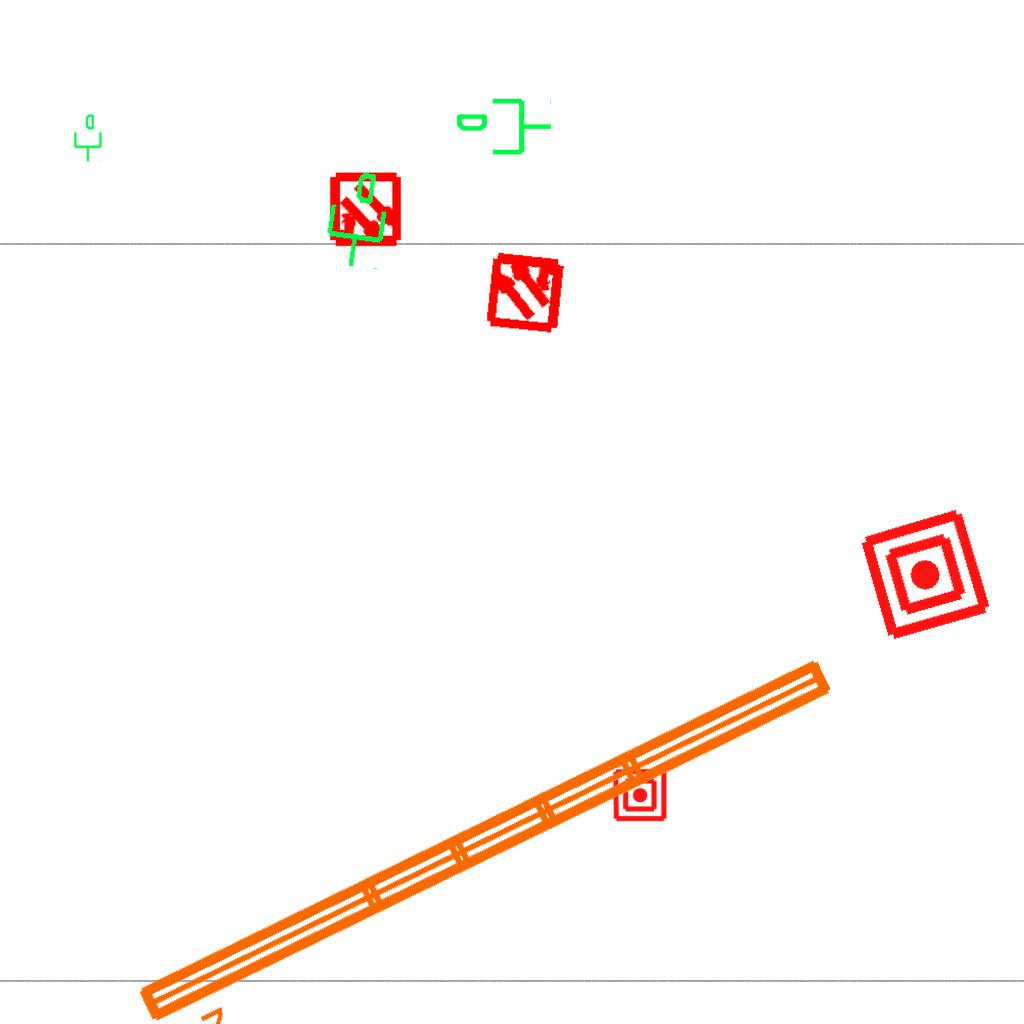Ambulanz_Pendelleuchte_LED: (124, 643, 870, 1024)
Datenanschluss_einfach: (314, 164, 397, 274), (454, 94, 554, 163), (70, 113, 104, 163)
NAM-Nichtautomatischer_Melder: (855, 504, 996, 645), (612, 767, 668, 823)
OT_Multisensormelder_(Kombination_RMO_WMD): (463, 228, 588, 353), (309, 155, 422, 268)
